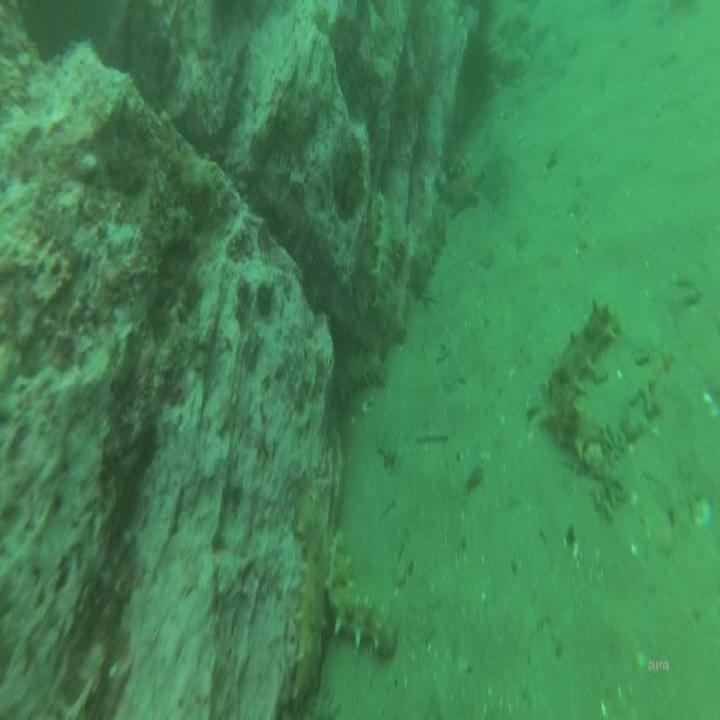holothurian: (546, 295, 621, 448), (324, 524, 399, 660), (288, 494, 329, 704), (408, 206, 449, 302), (373, 187, 399, 313), (331, 350, 391, 402)
starfish: (442, 158, 485, 219)
